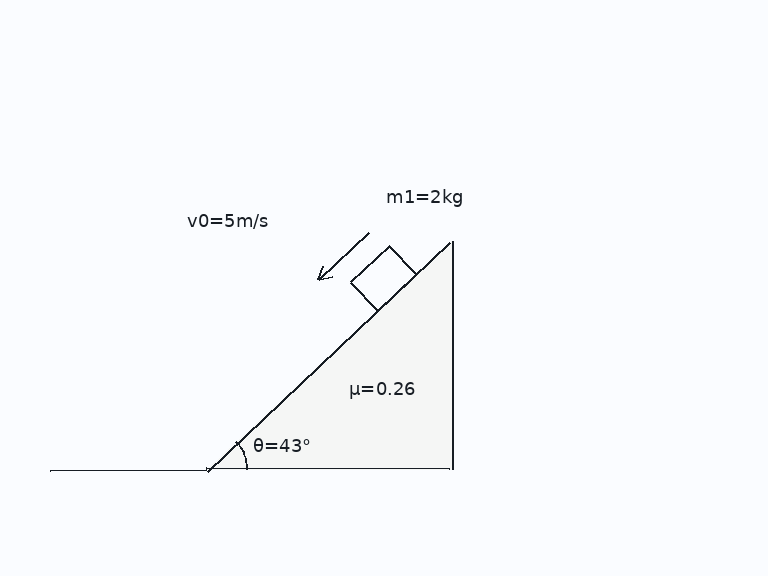block: (348, 244, 418, 313)
ramp: (205, 239, 453, 471)
